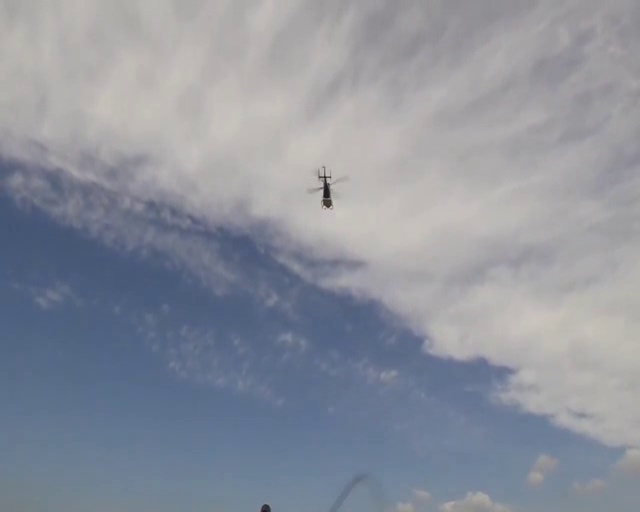HELICOPTER: (308, 165, 350, 210)
